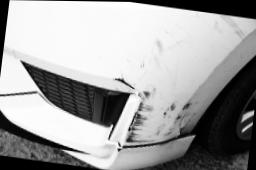Bumper: (105, 20, 228, 170)
